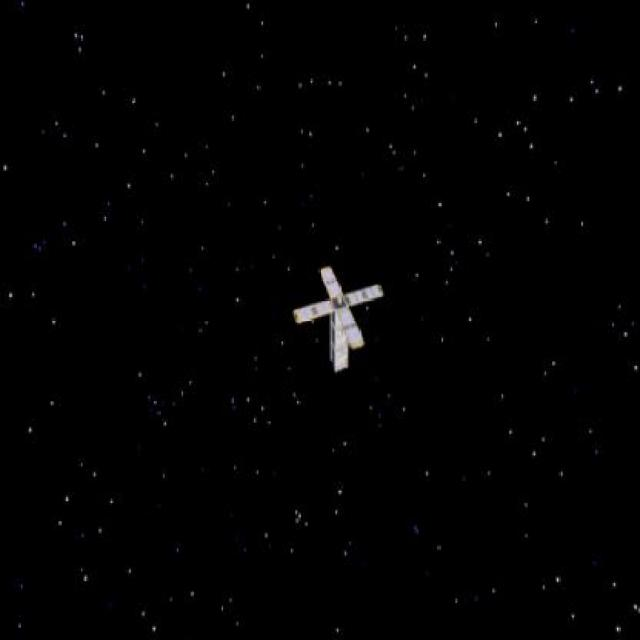medium_debris: (252, 263, 417, 375)
